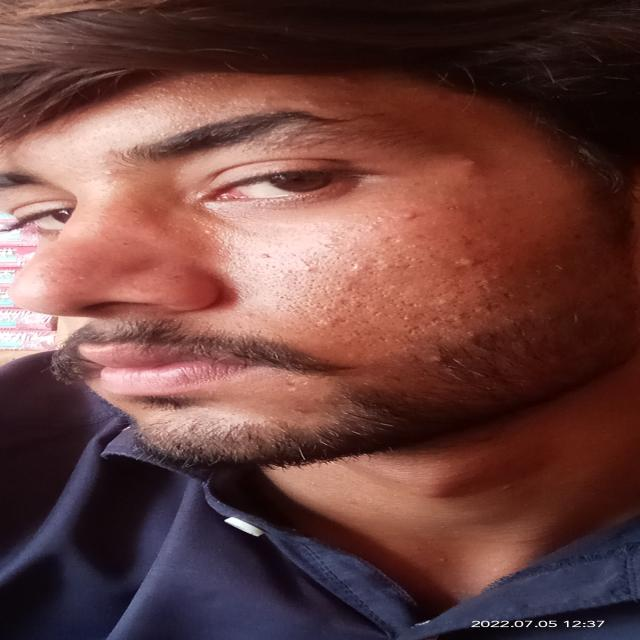Acne: (451, 154, 490, 172), (312, 314, 341, 332), (339, 260, 371, 275), (303, 100, 331, 113), (392, 209, 420, 221), (458, 254, 484, 266), (443, 202, 467, 215), (430, 92, 451, 106), (427, 353, 448, 367), (542, 154, 560, 168), (100, 168, 117, 178), (200, 228, 219, 236)
Englarged-Pores: (272, 241, 451, 323), (392, 276, 520, 328)
